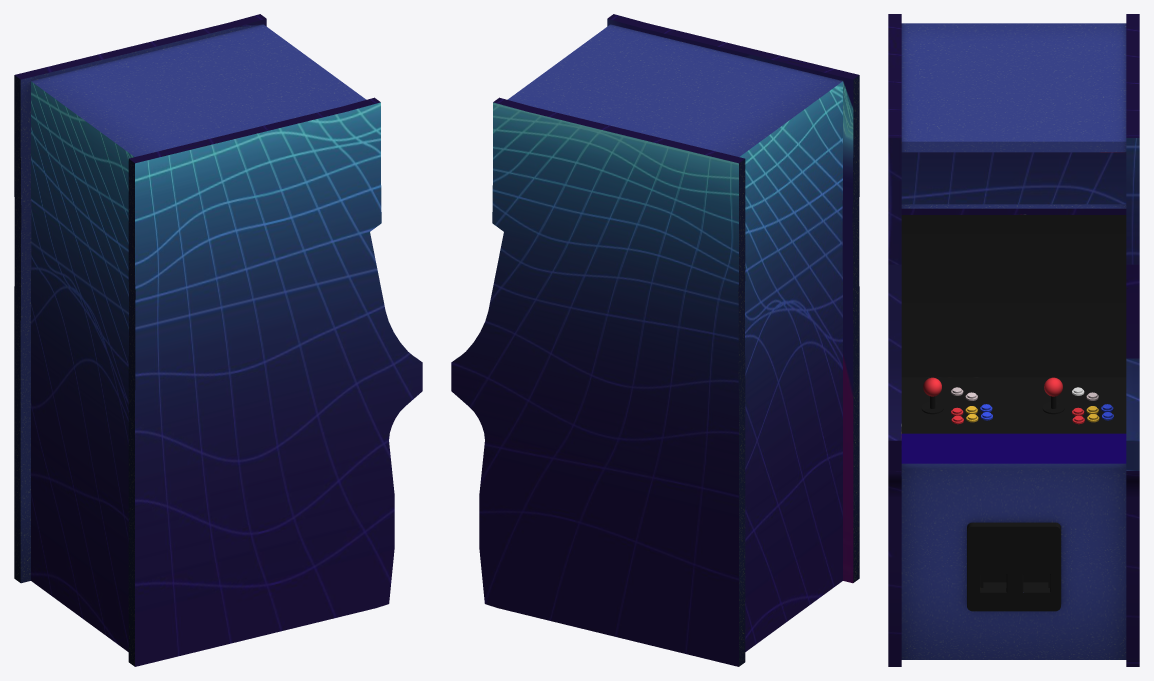
The picture shows the model from 3 angles, left to right: view 1: azimuth 30°, elevation 25°; view 2: azimuth 150°, elevation 25°; view 3: azimuth 270°, elevation 25°; orthographic projection. The views are drawn at different scales.
Visible parts, largest first — view 1: Cube.002_Baked; view 2: Cube.002_Baked; view 3: Cube.002_Baked.
Boxes of the visible parts, x1,y1,x2,y2 form: Cube.002_Baked: (14, 14, 422, 666); Cube.002_Baked: (451, 14, 859, 666); Cube.002_Baked: (888, 14, 1139, 666).
Size of the model in its own units: 3.71 by 6.22 by 2.7.
Materials: 1 (1 with a texture image).
